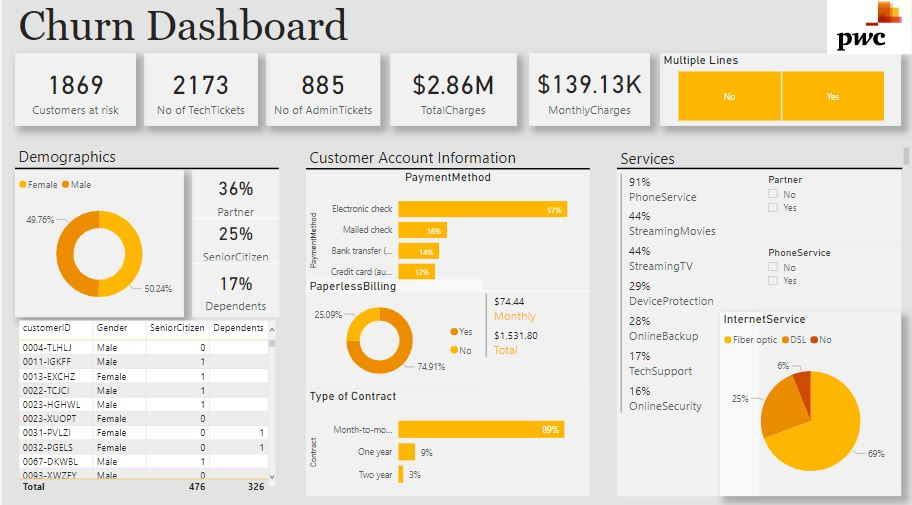

Layout of this report page (visuals, bound fields, positions):
{"tool":"powerbi","page":{"name":"Churn","canvas":[1280,720],"ordinal":0},"visuals":[{"type":"card","fields":{"Values":["CountNonNull(Churn.customerID)"]},"box":[18.5,77.3,169.7,102.5],"z":0},{"type":"card","fields":{"Values":["Sum(Churn.numTechTickets)"]},"box":[199.9,77.3,159.6,102.5],"z":1000},{"type":"card","fields":{"Values":["Sum(Churn.numAdminTickets)"]},"box":[371.2,77.3,161.3,102.5],"z":2000},{"type":"card","fields":{"Values":["Sum(Churn.TotalCharges)"]},"box":[545.9,77.3,178.1,102.5],"z":3000},{"type":"card","fields":{"Values":["Sum(Churn.MonthlyCharges)"]},"box":[740.8,77.3,169.7,102.5],"z":4000},{"type":"donutChart","fields":{"Category":["Churn.gender"],"Y":["CountNonNull(Churn.gender)"]},"box":[18.2,241.8,236.8,207],"z":5000},{"type":"card","fields":{"Values":["Key Measures.Partner in %"]},"box":[266.6,241.8,122.5,69.5],"z":6000},{"type":"card","fields":{"Values":["Key Measures.SeniorCitizen in %"]},"box":[266.6,308,122.5,66.2],"z":7000},{"type":"card","fields":{"Values":["Key Measures.Dependents in %"]},"box":[266.6,372.6,122.5,76.2],"z":8000},{"type":"clusteredBarChart","title":"PaymentMethod","fields":{"Category":["Churn.PaymentMethod"],"Y":["CountNonNull(Churn.PaymentMethod)"]},"box":[427.2,241.8,399.1,172.2],"z":9000},{"type":"donutChart","title":"PaperlessBilling","fields":{"Category":["Churn.PaperlessBilling"],"Y":["CountNonNull(Churn.PaperlessBilling)"]},"box":[427.2,395.8,248.4,154],"z":10000},{"type":"multiRowCard","fields":{"Values":["Avg(Churn.MonthlyCharges)","Avg(Churn.TotalCharges)"]},"box":[675.6,410.7,150.7,139.1],"z":11000},{"type":"slicer","title":"Multiple Lines","fields":{"Values":["Churn.MultipleLines"]},"box":[925.6,77.3,339.3,102.5],"z":12000},{"type":"multiRowCard","fields":{"Values":["Key Measures.PhoneService in %","Key Measures.StreamingMovies in %","Key Measures.StreamingTV in %","Key Measures.DeviceProtection in %","Key Measures.OnlineBackup in %","Key Measures.TechSupport in %","Key Measures.OnlineSecurity1"]},"box":[865.1,241.9,199.9,458.6],"z":13000},{"type":"tableEx","fields":{"Values":["Churn.customerID","Churn.gender","Sum(Churn.SeniorCitizen)","Key Measures.Count of Dependents"]},"box":[18.2,448.7,370.9,251.7],"z":14000},{"type":"pieChart","title":"InternetService","fields":{"Y":["CountNonNull(Churn.InternetService)"],"Category":["Churn.InternetService"]},"box":[1009.6,441.8,255.3,258.7],"z":15000},{"type":"slicer","fields":{"Values":["Churn.Partner"]},"box":[1065,241.9,199.9,102.5],"z":16000},{"type":"slicer","fields":{"Values":["Churn.PhoneService"]},"box":[1065,344.4,199.9,97.4],"z":17000},{"type":"clusteredBarChart","title":"Type of Contract","fields":{"Category":["Churn.Contract"],"Y":["CountNonNull(Churn.Contract)"]},"box":[427.2,549.8,399.1,150.7],"z":18000},{"type":"textbox","box":[18.5,0,1246.4,79],"z":19000},{"type":"image","box":[1160.8,0,119.2,79.5],"z":20000},{"type":"textbox","box":[18.2,202,352.7,39.7],"z":21000},{"type":"shape","box":[18.2,221.9,370.9,34.8],"z":22000},{"type":"shape","box":[427.2,223.5,399.1,33.1],"z":23000},{"type":"shape","box":[864.4,221.9,400.7,34.8],"z":24000},{"type":"textbox","box":[427.2,203.7,375.9,38.1],"z":25000},{"type":"textbox","box":[864.4,205.3,415.6,36.4],"z":26000},{"type":"slicer","fields":{"Values":["Churn.gender"]},"box":[167.6,244.3,88,48.3],"z":26001}]}

Visuals, with their boxes in screenshot pixels (x1, y1, x2, y2), scaled from the page's 1280x720 canvas onto the 912x505 screenshot:
card - CountNonNull(Churn.customerID): box(13, 54, 134, 126)
card - Sum(Churn.numTechTickets): box(142, 54, 256, 126)
card - Sum(Churn.numAdminTickets): box(264, 54, 379, 126)
card - Sum(Churn.TotalCharges): box(389, 54, 516, 126)
card - Sum(Churn.MonthlyCharges): box(528, 54, 649, 126)
donutChart - Churn.gender x CountNonNull(Churn.gender): box(13, 170, 182, 315)
card - Key Measures.Partner in %: box(190, 170, 277, 218)
card - Key Measures.SeniorCitizen in %: box(190, 216, 277, 262)
card - Key Measures.Dependents in %: box(190, 261, 277, 315)
"PaymentMethod" clusteredBarChart: box(304, 170, 589, 290)
"PaperlessBilling" donutChart: box(304, 278, 481, 386)
multiRowCard - Avg(Churn.MonthlyCharges) x Avg(Churn.TotalCharges): box(481, 288, 589, 386)
"Multiple Lines" slicer: box(659, 54, 901, 126)
multiRowCard - Key Measures.PhoneService in % x Key Measures.StreamingMovies in %: box(616, 170, 759, 491)
tableEx - Churn.customerID x Churn.gender: box(13, 315, 277, 491)
"InternetService" pieChart: box(719, 310, 901, 491)
slicer - Churn.Partner: box(759, 170, 901, 242)
slicer - Churn.PhoneService: box(759, 242, 901, 310)
"Type of Contract" clusteredBarChart: box(304, 386, 589, 491)
textbox: box(13, 0, 901, 55)
image: box(827, 0, 911, 56)
textbox: box(13, 142, 264, 170)
shape: box(13, 156, 277, 180)
shape: box(304, 157, 589, 180)
shape: box(616, 156, 901, 180)
textbox: box(304, 143, 572, 170)
textbox: box(616, 144, 911, 170)
slicer - Churn.gender: box(119, 171, 182, 205)
